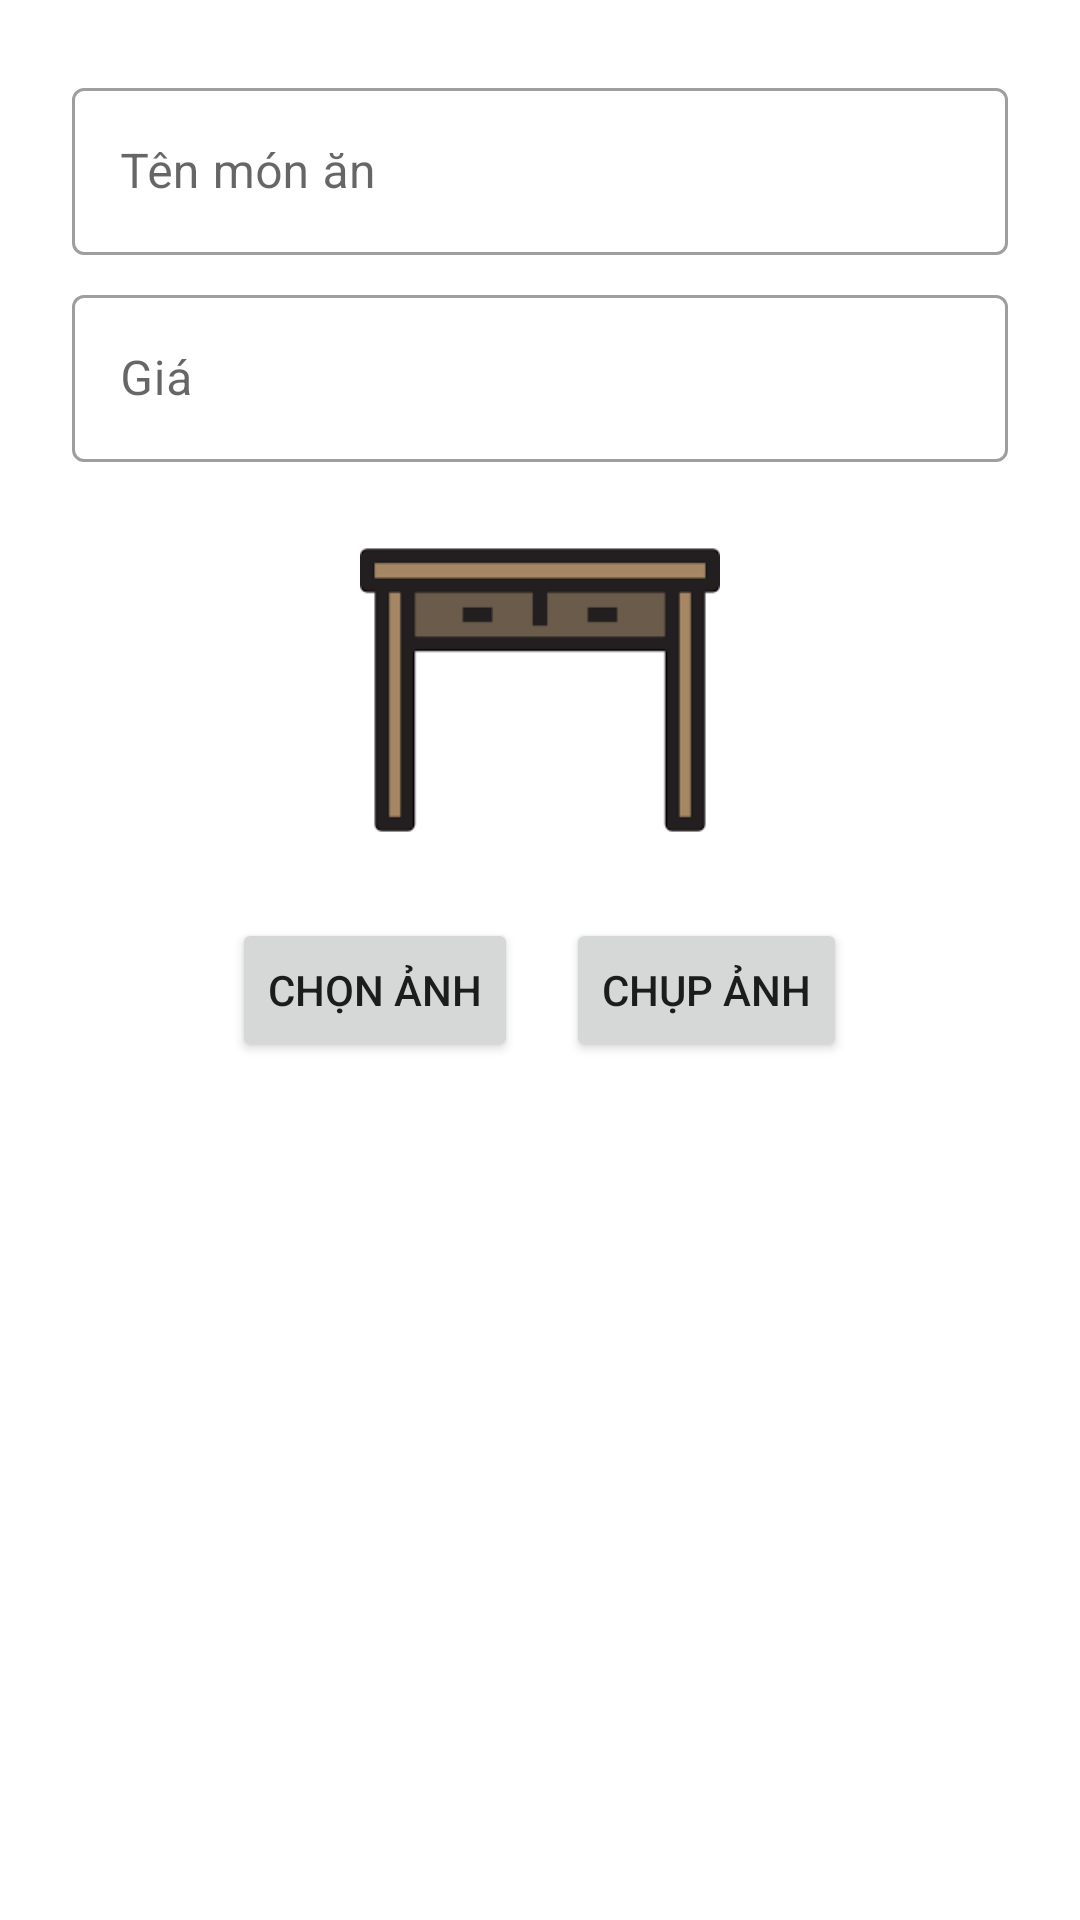

Icons on this 1080 × 1920 Android screen, each with the point to tap as (x,y):
table: (540,690)
